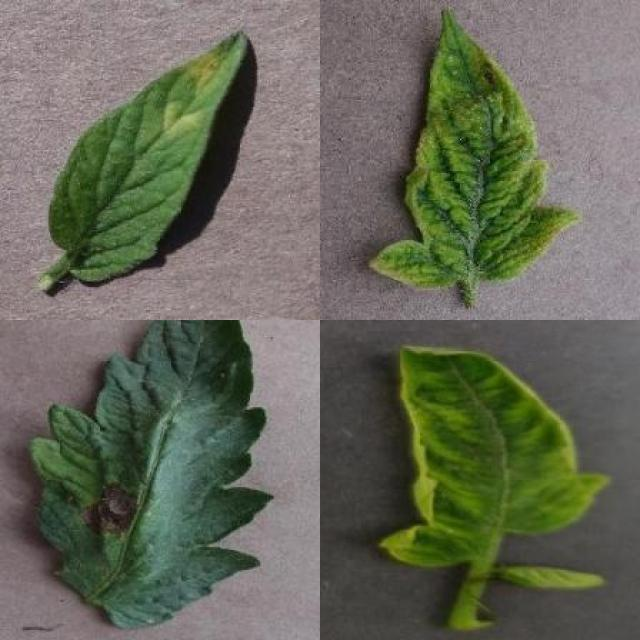Early Blight: (27, 321, 279, 634)
Leaf Mold: (48, 30, 252, 284)
Yellow Leaf Curl Virus: (366, 4, 578, 292), (379, 345, 612, 568), (496, 563, 604, 590)
